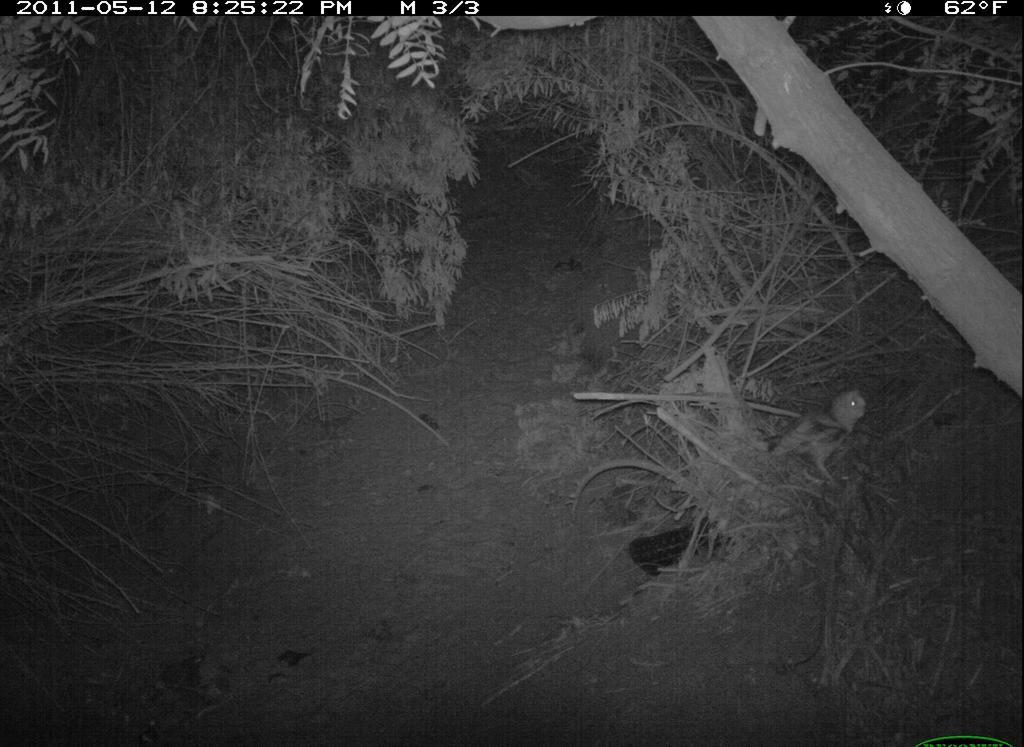bird: (768, 385, 870, 489)
